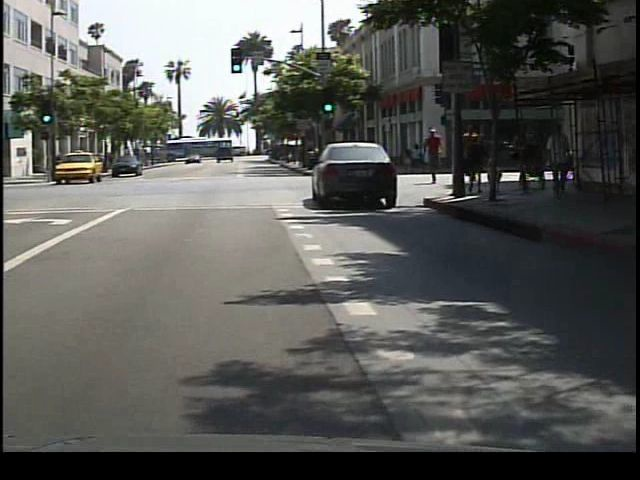person: (425, 125, 452, 188)
